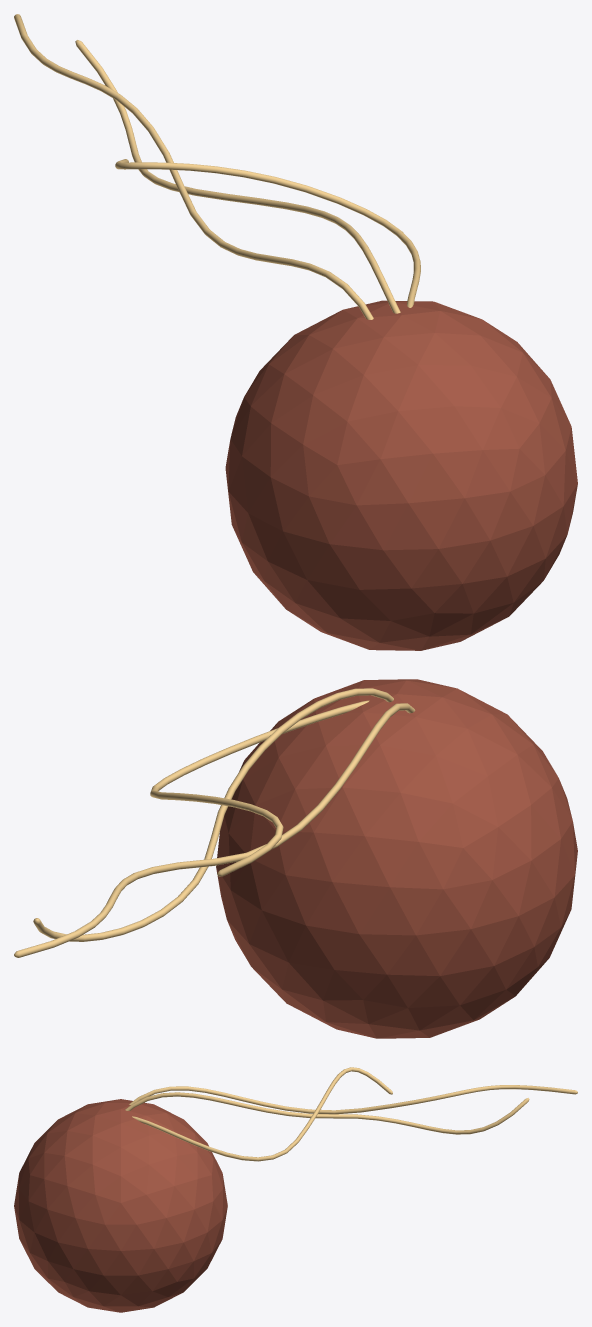
Rendered from Meatball Combined.fbx.
3 renders of one model, top to bottom at view 1: azimuth 30°, elevation 25°; view 2: azimuth 150°, elevation 25°; view 3: azimuth 270°, elevation 25°, orthographic. The views are drawn at different scales.
Visible parts, largest first — view 1: Meatball Combined; view 2: Meatball Combined; view 3: Meatball Combined.
Boxes of the visible parts, box(x1,y1,x2,y2) form: Meatball Combined: box(14, 14, 577, 650); Meatball Combined: box(14, 679, 577, 1038); Meatball Combined: box(14, 1067, 577, 1312).
Bounding box in the file's own units: 200 × 221 × 527.
